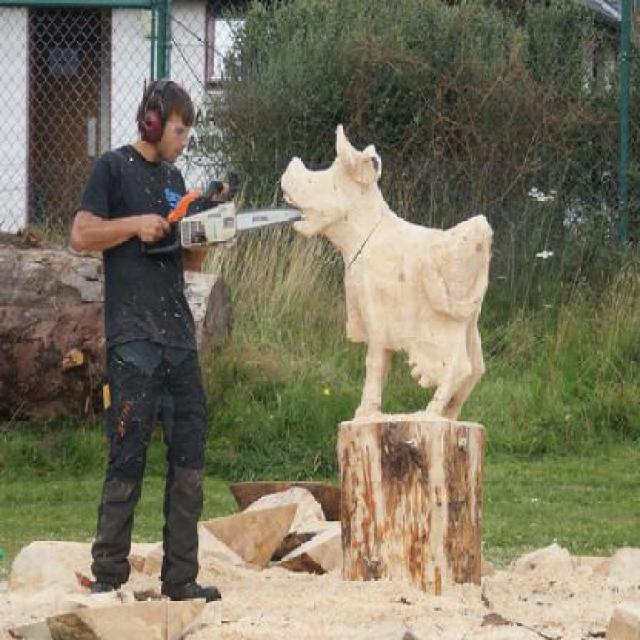Chainsaw: (134, 182, 309, 256)
